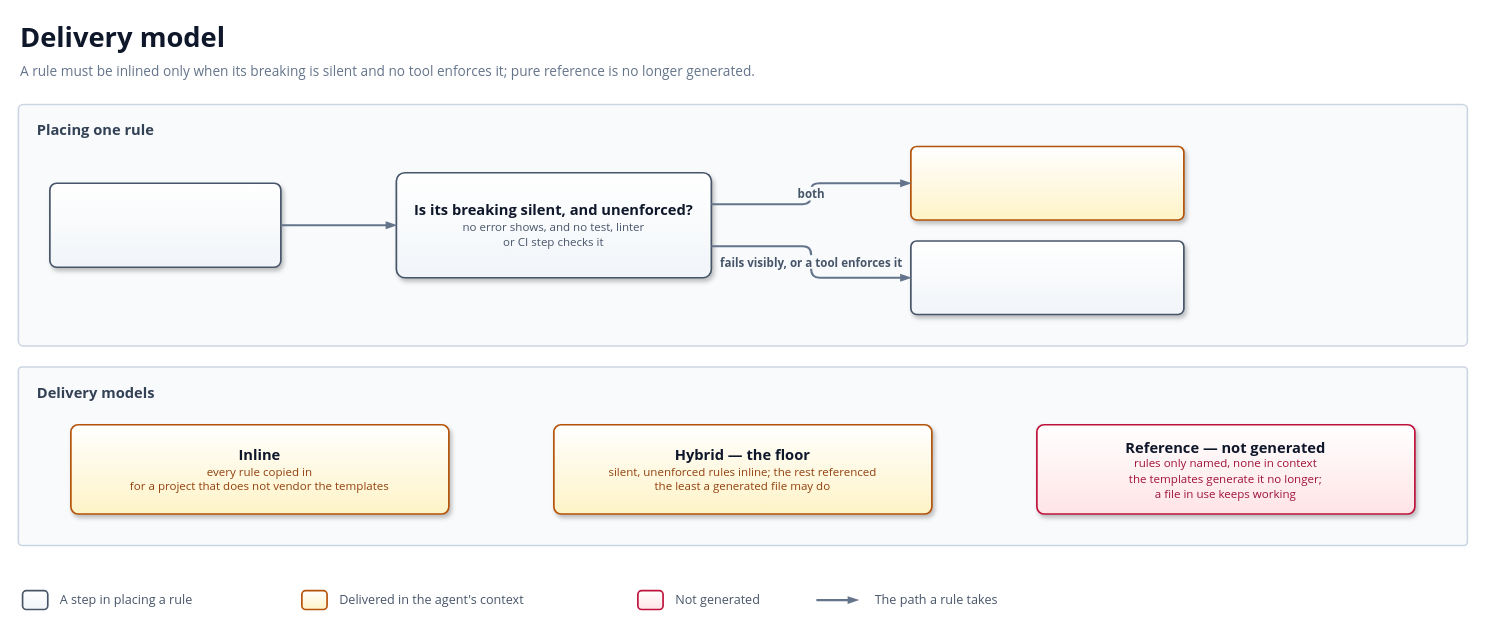
Image size: 1487x630. Some labels were removed from this diagram. The shapes that lost their labels are listed below. From the top down, each one's centre as x and y in pixels, then its label:
the point at 1047,184: Inline it MUST be copied into the context file
the point at 165,226: One rule from the template chain
the point at 1047,278: May reference it named in the file, read only when the agent opens it
